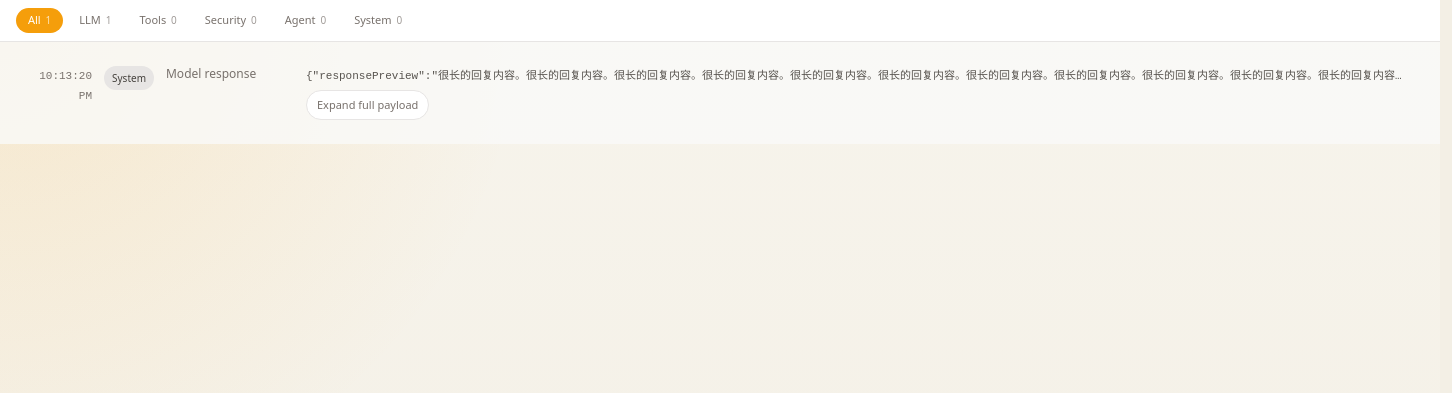
EventTimeline › shows an explicit full-expand button for long payloads
The image size is (1452, 393).
What coordinates should you click on to do the following:
click the button "Expand full payload"
I would click on:
 (368, 104)
Its box is x1=306 y1=90 x2=429 y2=120.
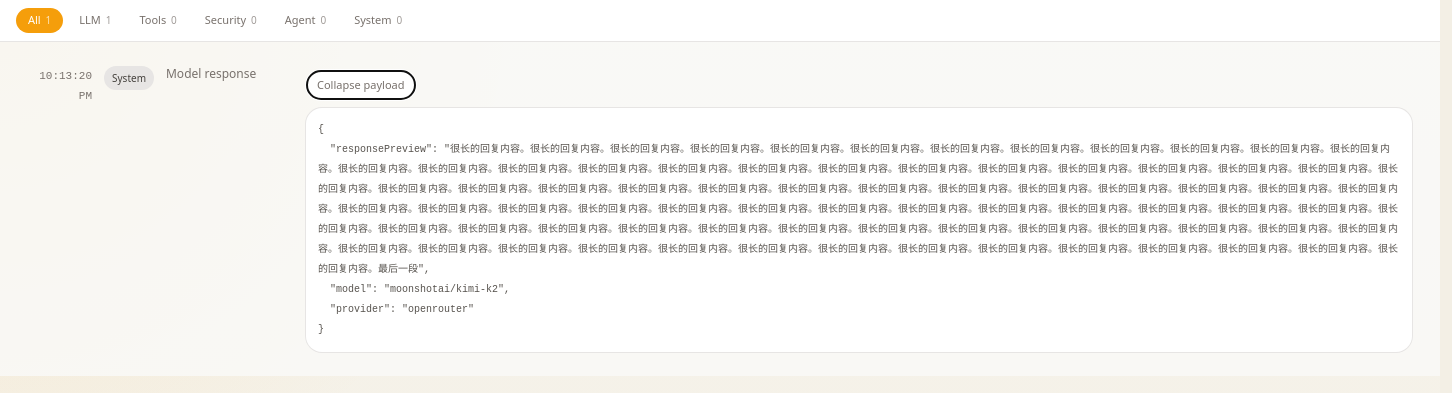
Expected: the button "Collapse payload" is shown, x1=306 y1=70 x2=416 y2=100
Expected: the text "最后一段" is shown, x1=318 y1=124 x2=1398 y2=334
